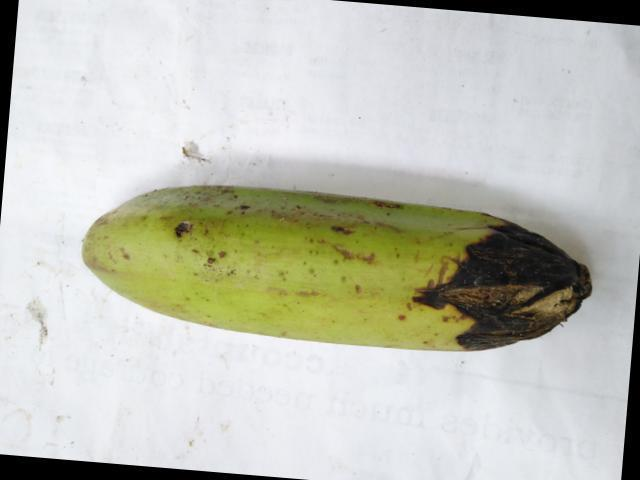rotten: (398, 191, 623, 390)
